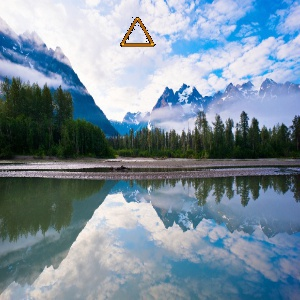triangle: (118, 13, 158, 50)
